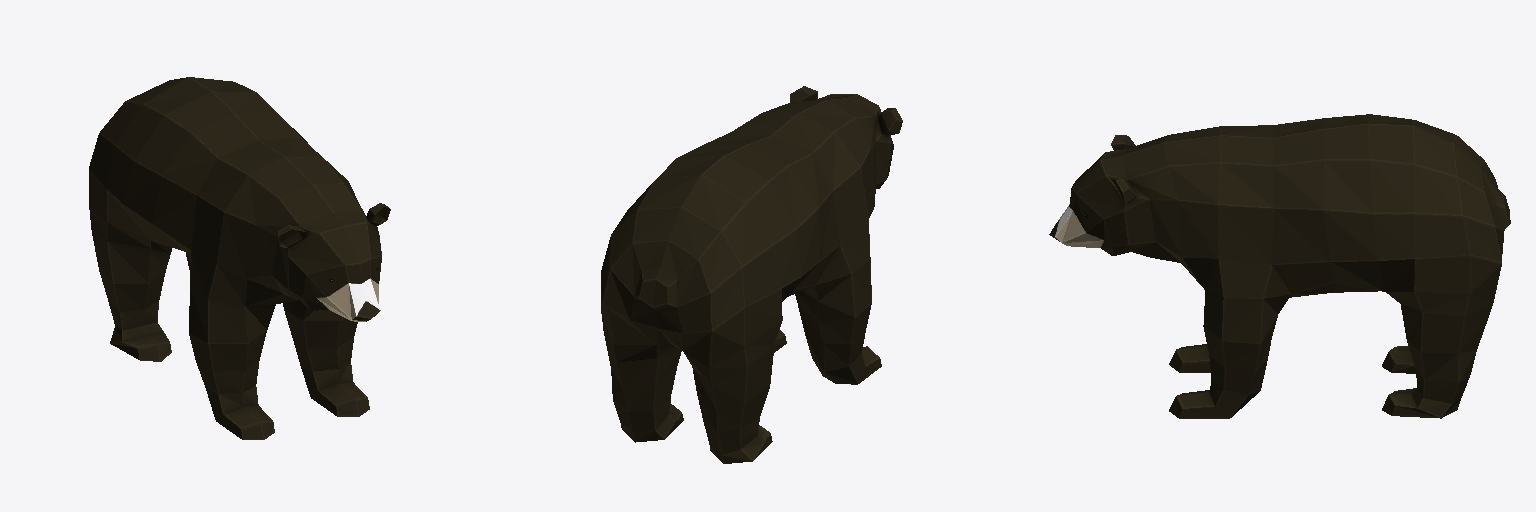
3 renders of one model, left to right at view 1: azimuth 30°, elevation 25°; view 2: azimuth 150°, elevation 25°; view 3: azimuth 270°, elevation 25°, orthographic.
Visible parts, largest first — view 1: BlackBear_mesh; view 2: BlackBear_mesh; view 3: BlackBear_mesh.
Boxes of the visible parts, x1,y1,x2,y2 form: BlackBear_mesh: [89, 77, 390, 439]; BlackBear_mesh: [601, 86, 902, 463]; BlackBear_mesh: [1049, 114, 1510, 418].
Bounding box in the file's own units: 6.68 × 10.22 × 16.13.
Materials: 1 (1 with a texture image).